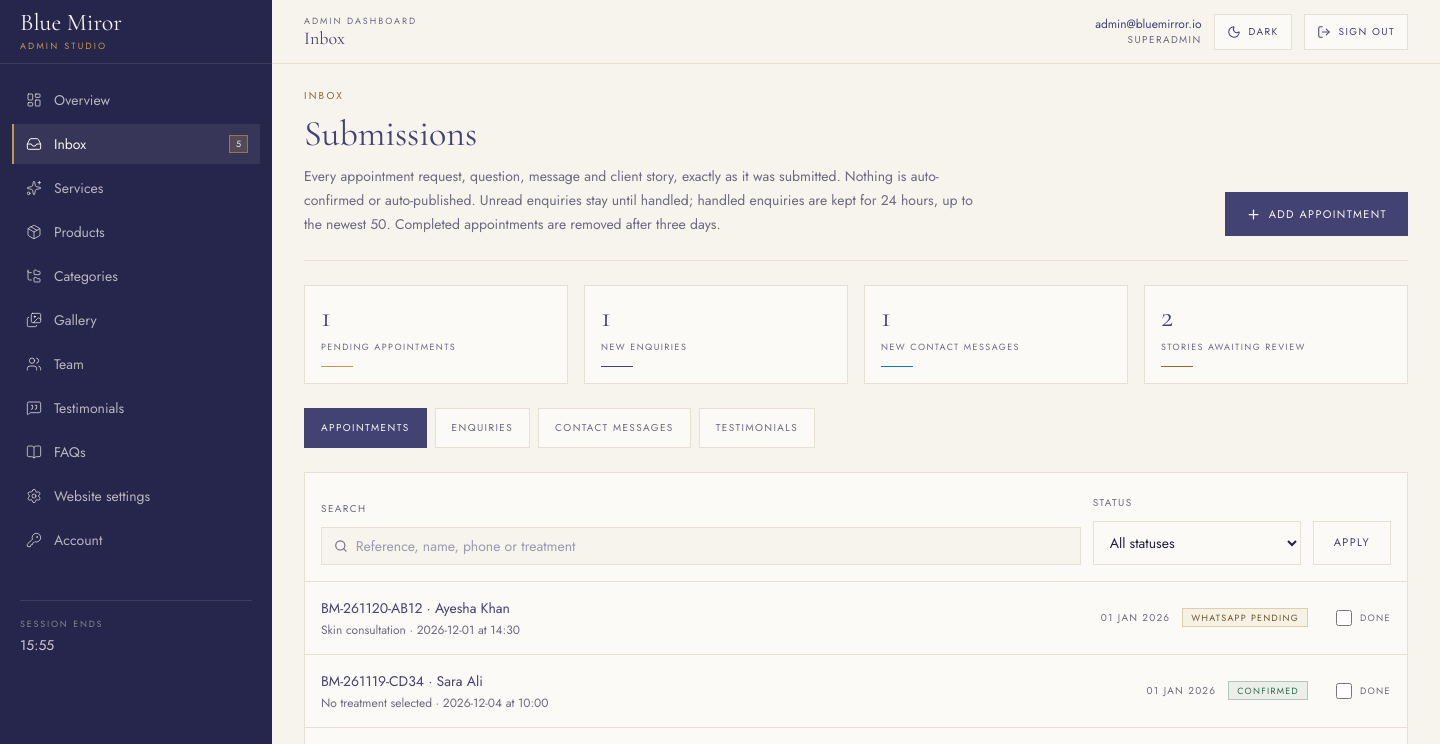
Test case: Inbox page › filters by search term and shows an empty state when nothing matches
Expected: the text "BM-261120-AB12 · Ayesha Khan" is shown, [321, 598, 520, 618]
Type "Sara" into the field labelled "Search" at (708, 546), box [348, 528, 1068, 564]
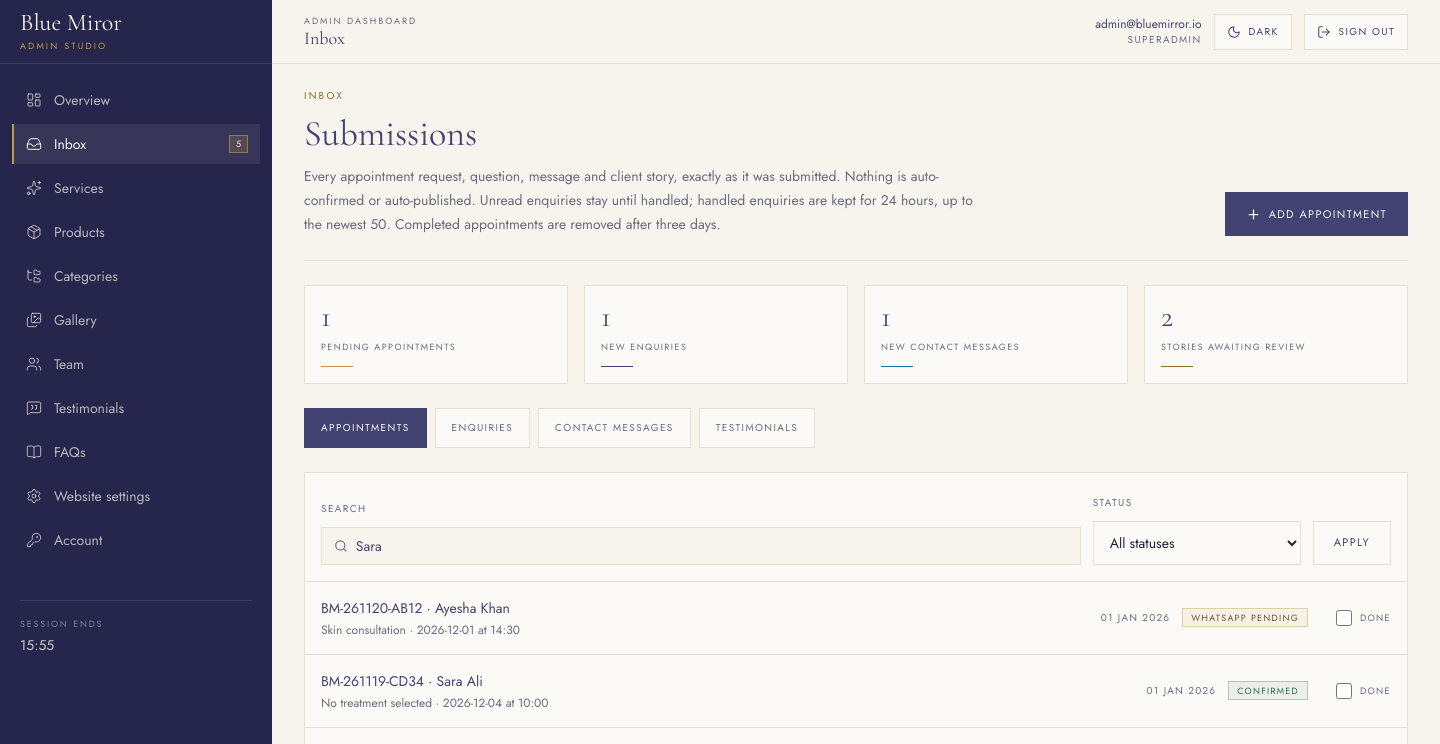
Click the button "Apply" at (1352, 542), box [1313, 520, 1391, 564]
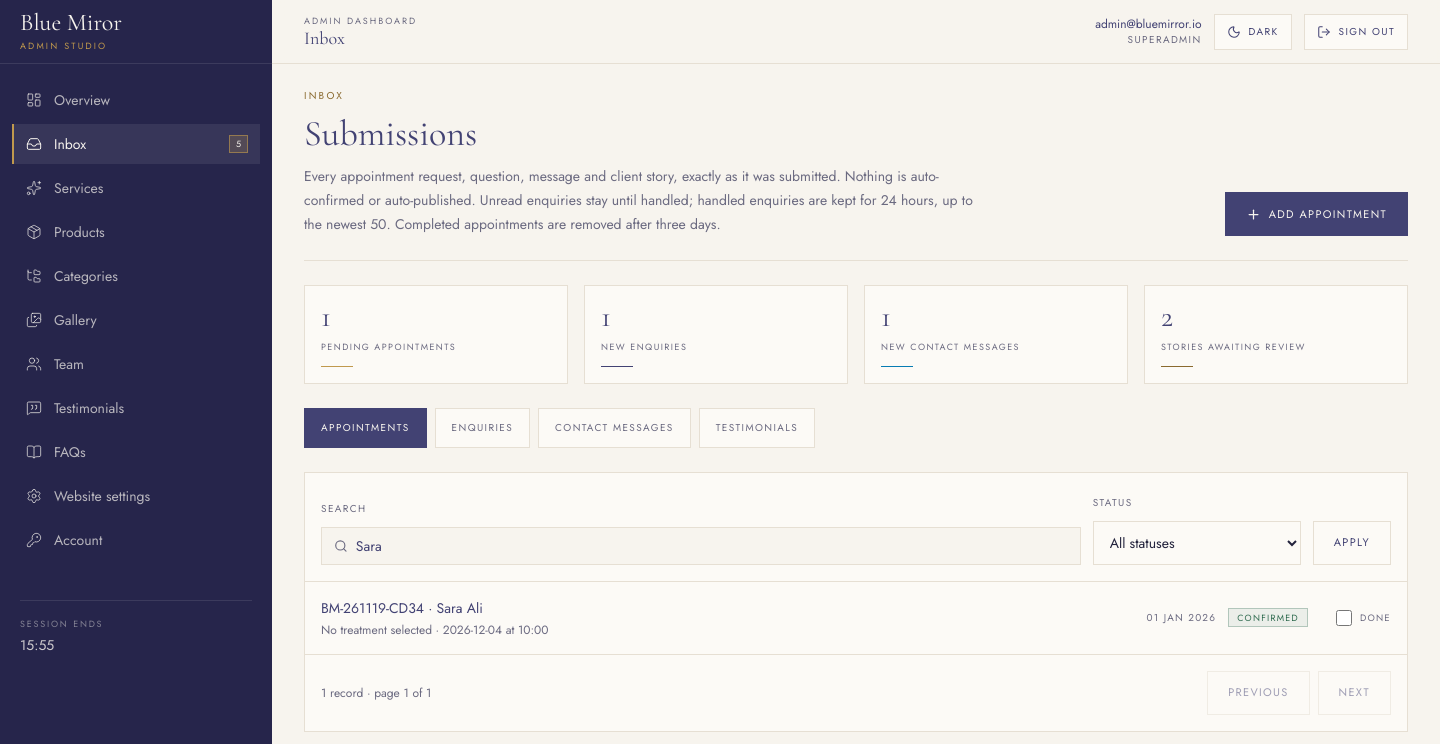
Expected: the text "BM-261119-CD34 · Sara Ali" is shown, [321, 598, 483, 618]
Expected: the button "BM-261120-AB12 · Ayesha Khan" is gone
Replace the text in the field labelled "Search" with "nobody" at (708, 546), box [348, 528, 1068, 564]
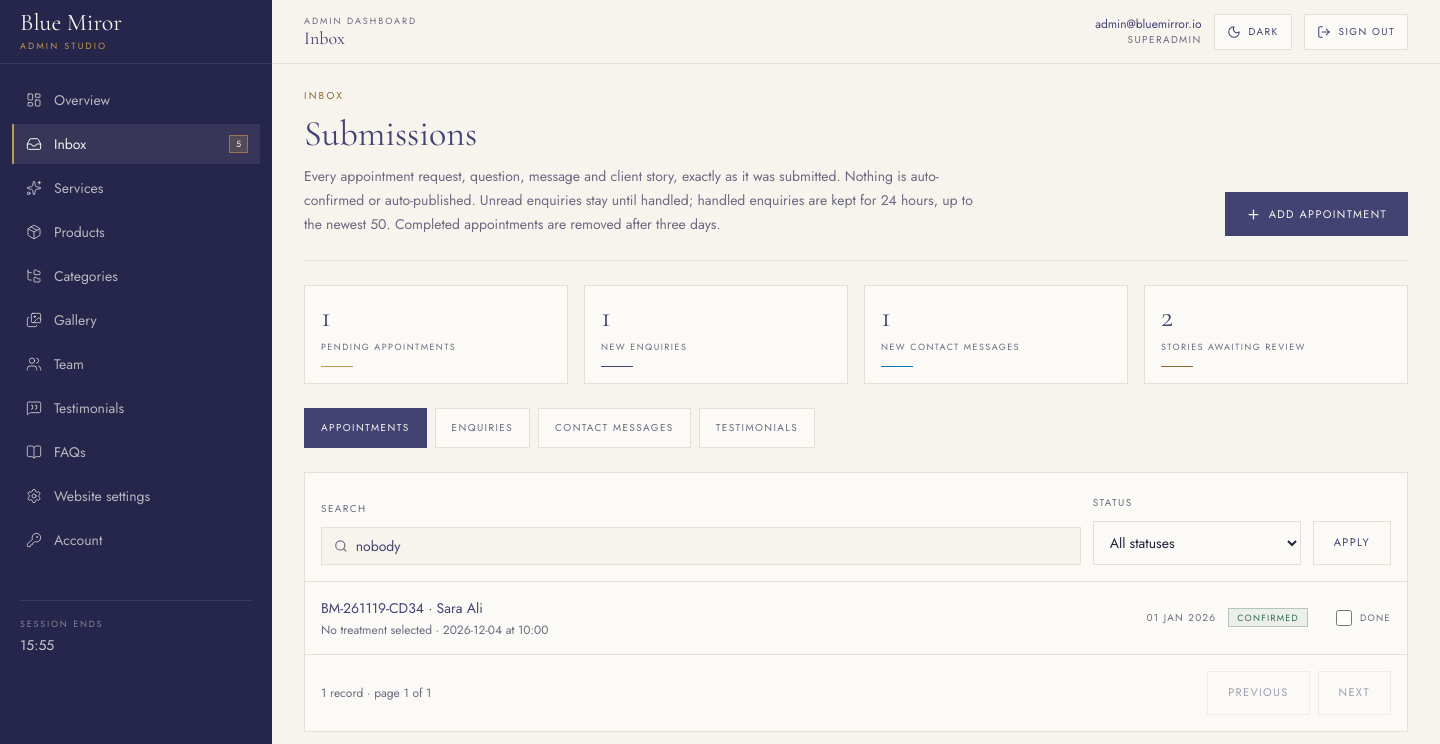
Click the button "Apply" at (1352, 542), box [1313, 520, 1391, 564]
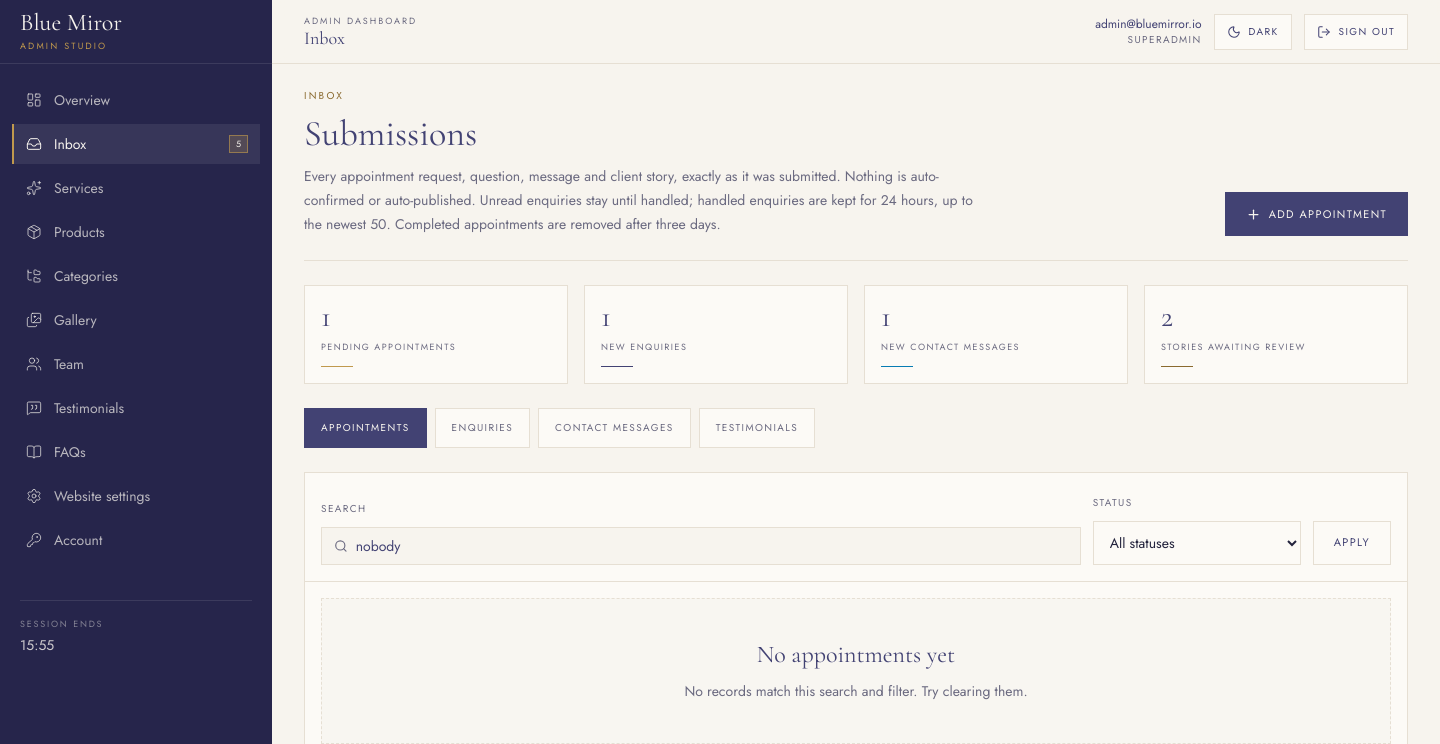
Expected: the text "No records match this search and filter. Try clearing them." is shown, [684, 680, 1028, 700]
